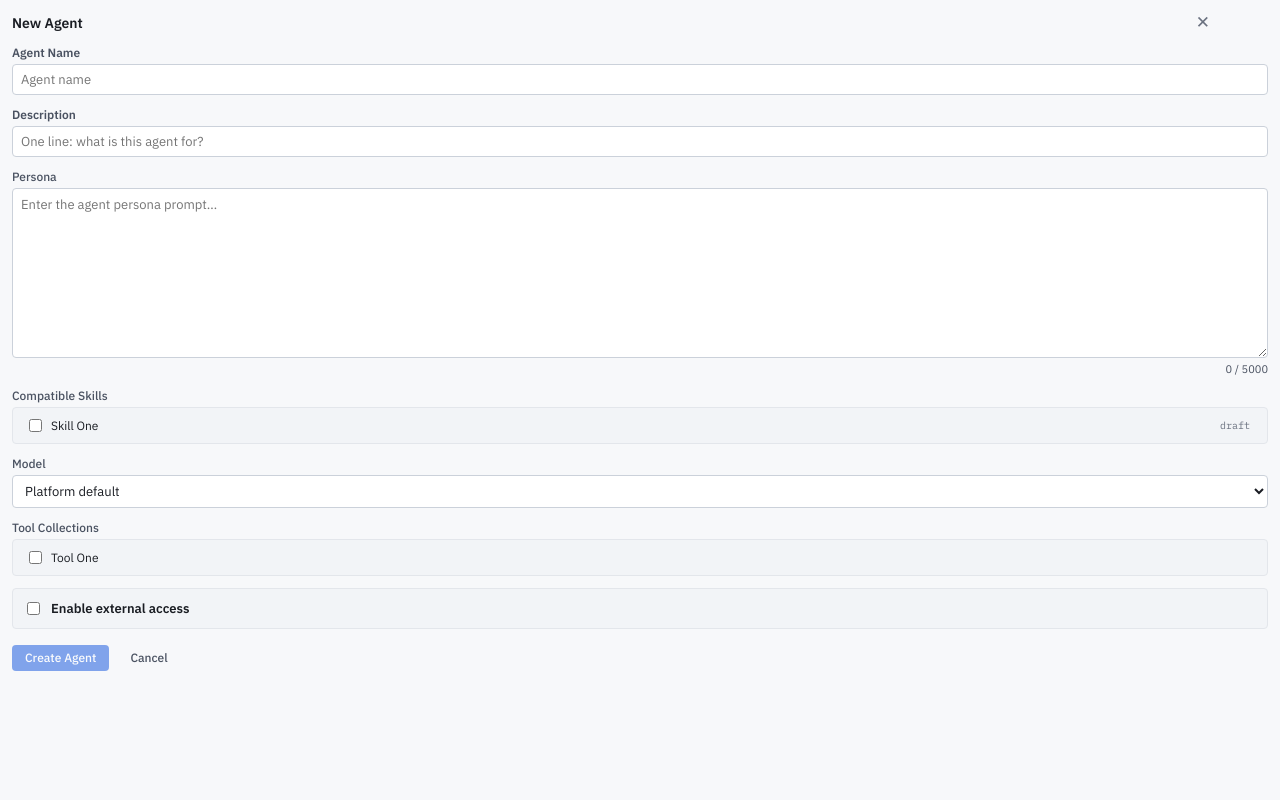
Test: SpecialtyAgentEditor — Custom Agent editor surface › preserves unsaved input and surfaces an error when the save fails (Req 4.6)
Type "Research Agent" into the field labelled "Agent name" at (640, 80), box [12,64,1268,95]
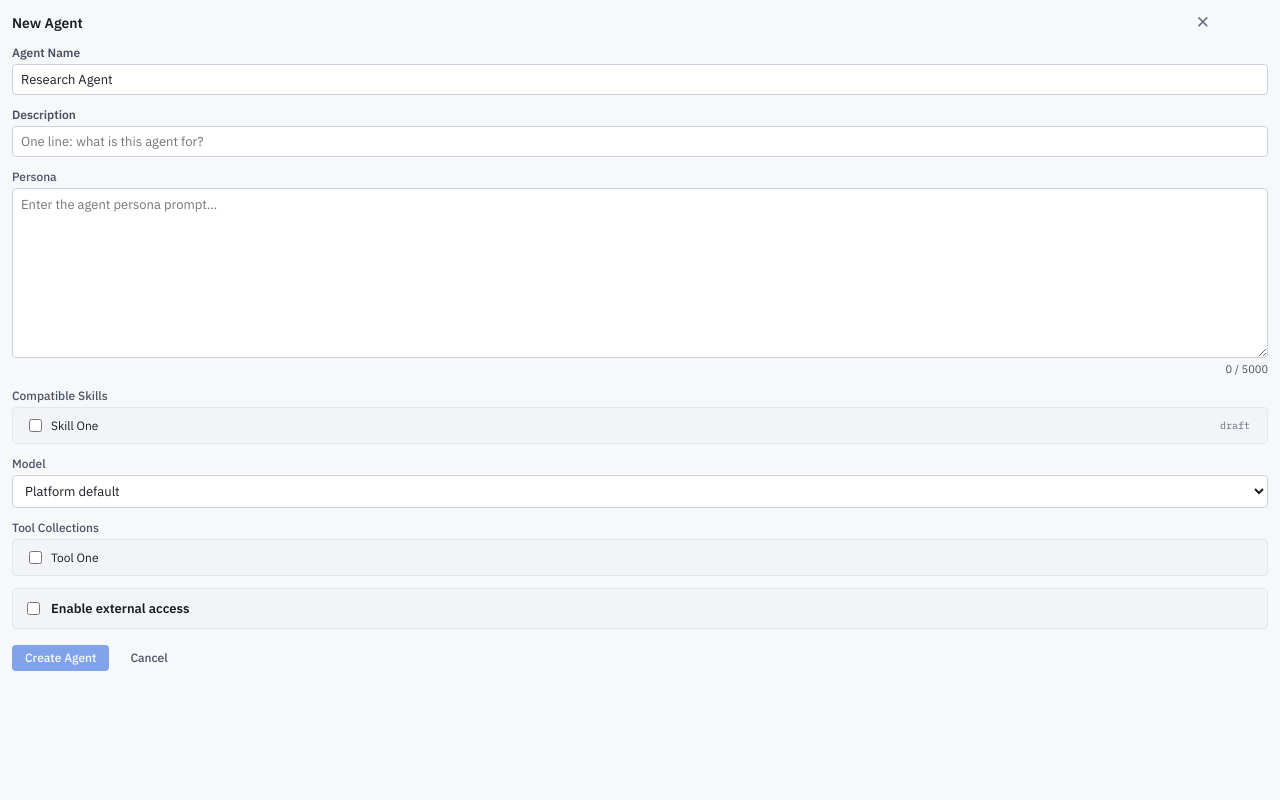
Type "You are helpful." into the text box with placeholder "Enter the agent persona prompt…" at (640, 273), box [12,188,1268,358]
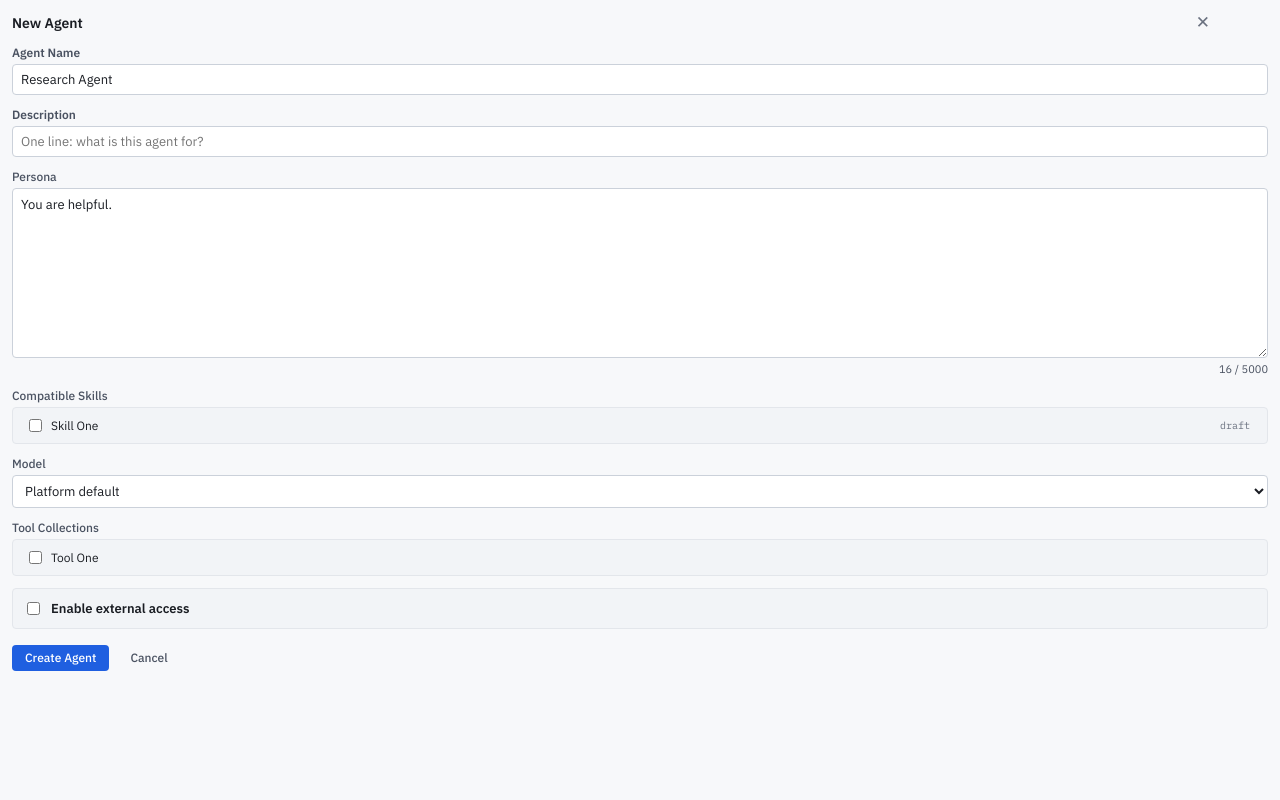
Click the button "Create Agent" at (61, 658), box [12,645,109,671]
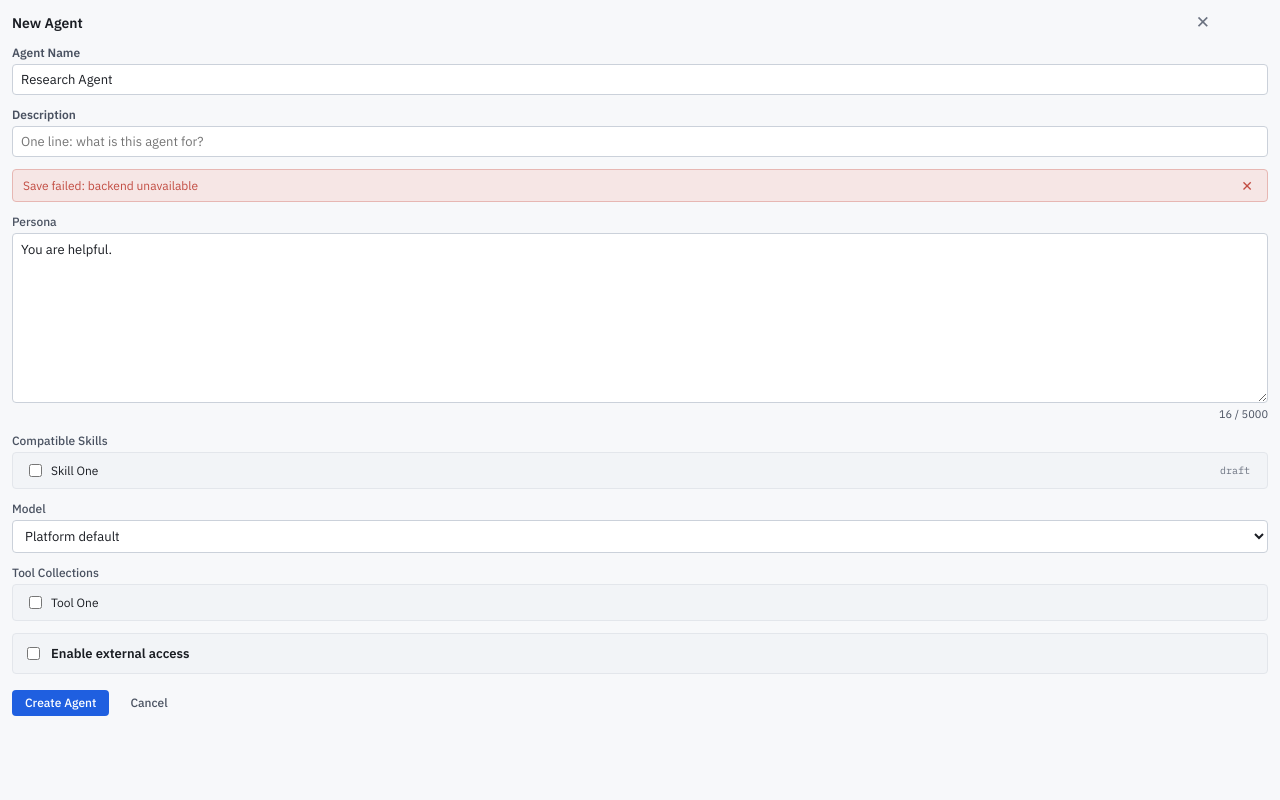
Check: the text "Save failed: backend unavailable" is shown, box [23,178,198,193]
